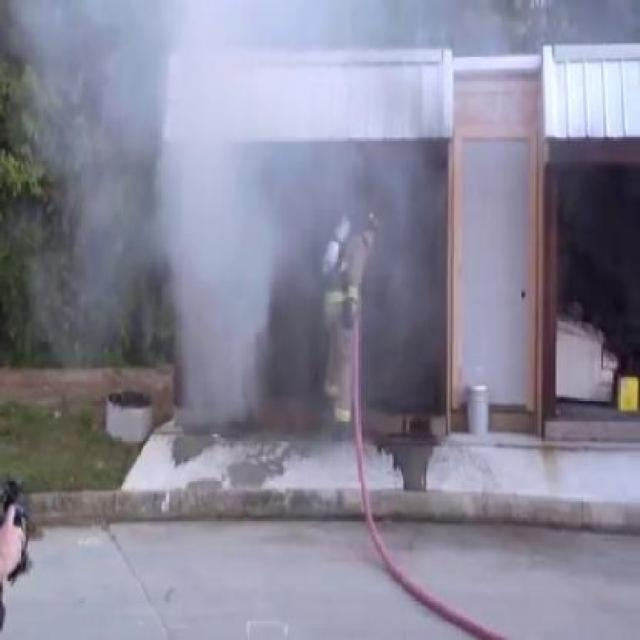smoke: (170, 166, 278, 417)
